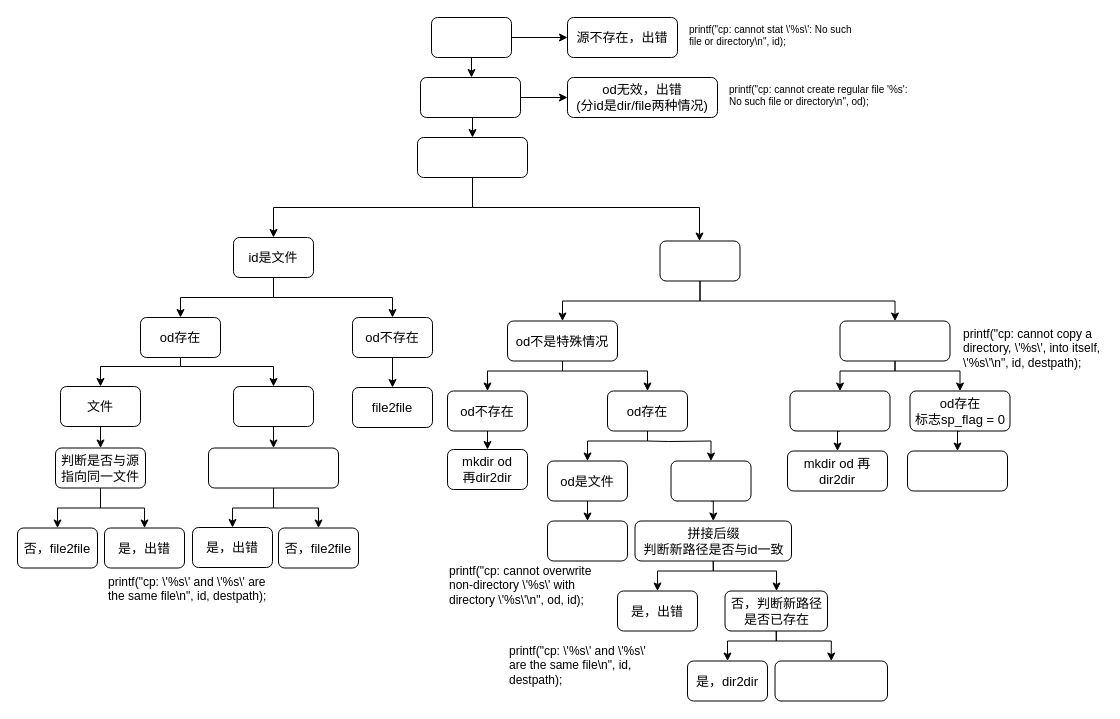
Some shapes in this 1120 by 719 pixel diagram are drawn without their labels. Each missing label, with the centre of its shape:
id是目录: pixel 699 260
od不存在 标志sp_flag = 1: pixel 839 410
od是id的一个子路径（特殊情况）: pixel 894 340
od是目录: pixel 710 480
od有效: pixel 472 157
出错: pixel 587 540
否，mkdir 新路径再dir2dir: pixel 831 680
拼接后缀 dir2dir: pixel 957 470
拼接后缀，判断是否与源指向同一文件: pixel 273 467
源路径id: pixel 471 37
目录: pixel 273 406
除掉od最后一部分，判断有效性: pixel 470 97
